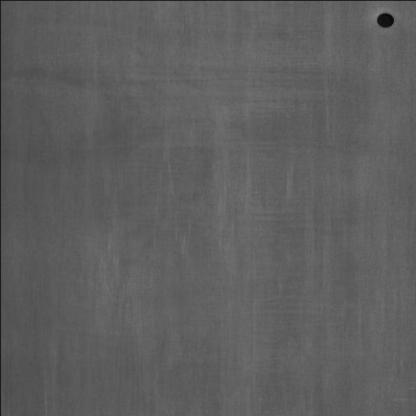punching_hole: (373, 9, 395, 33)
